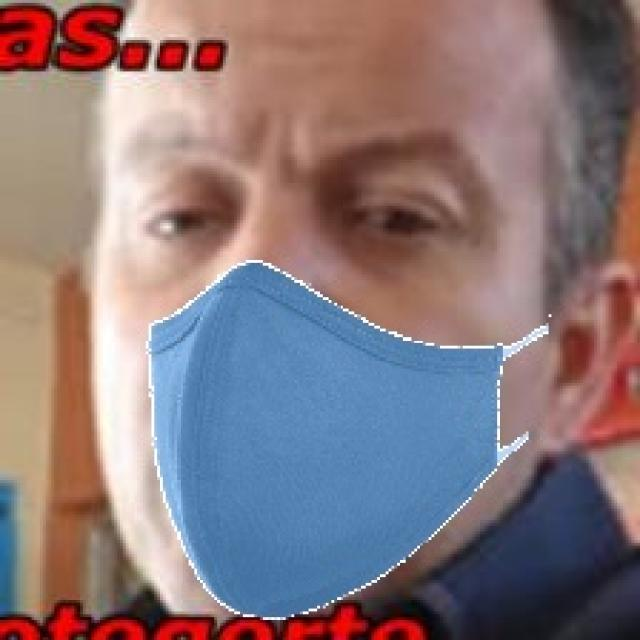mask: (110, 257, 563, 633)
